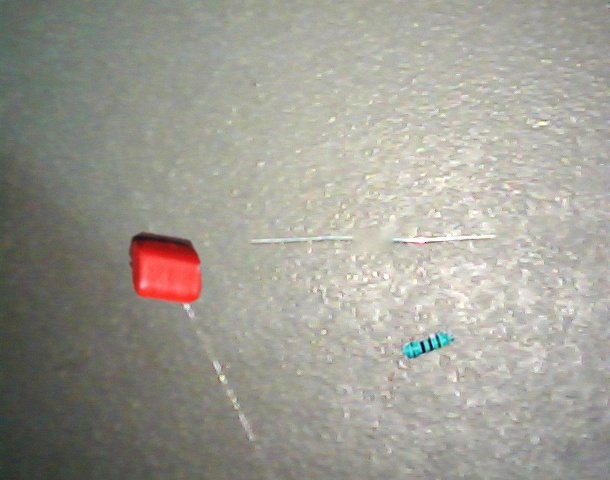capacitor: (129, 232, 202, 304)
resistor: (401, 327, 455, 361)
